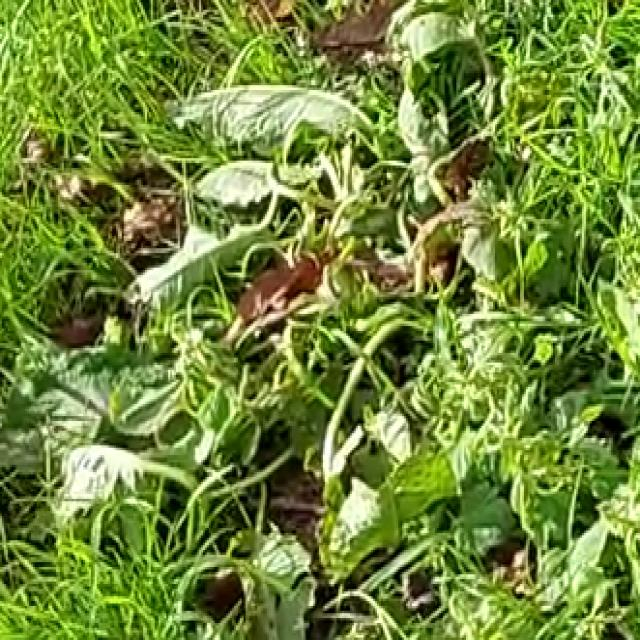organic waste: (118, 34, 520, 277), (0, 282, 253, 564)
